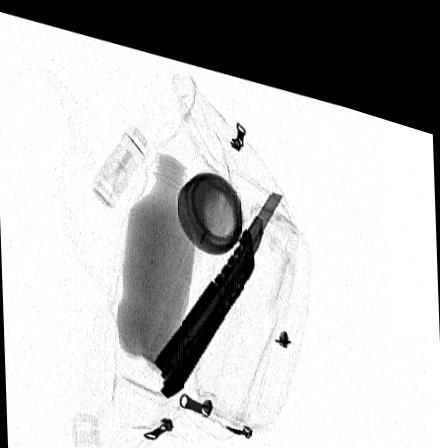Knife: (151, 174, 283, 389)
